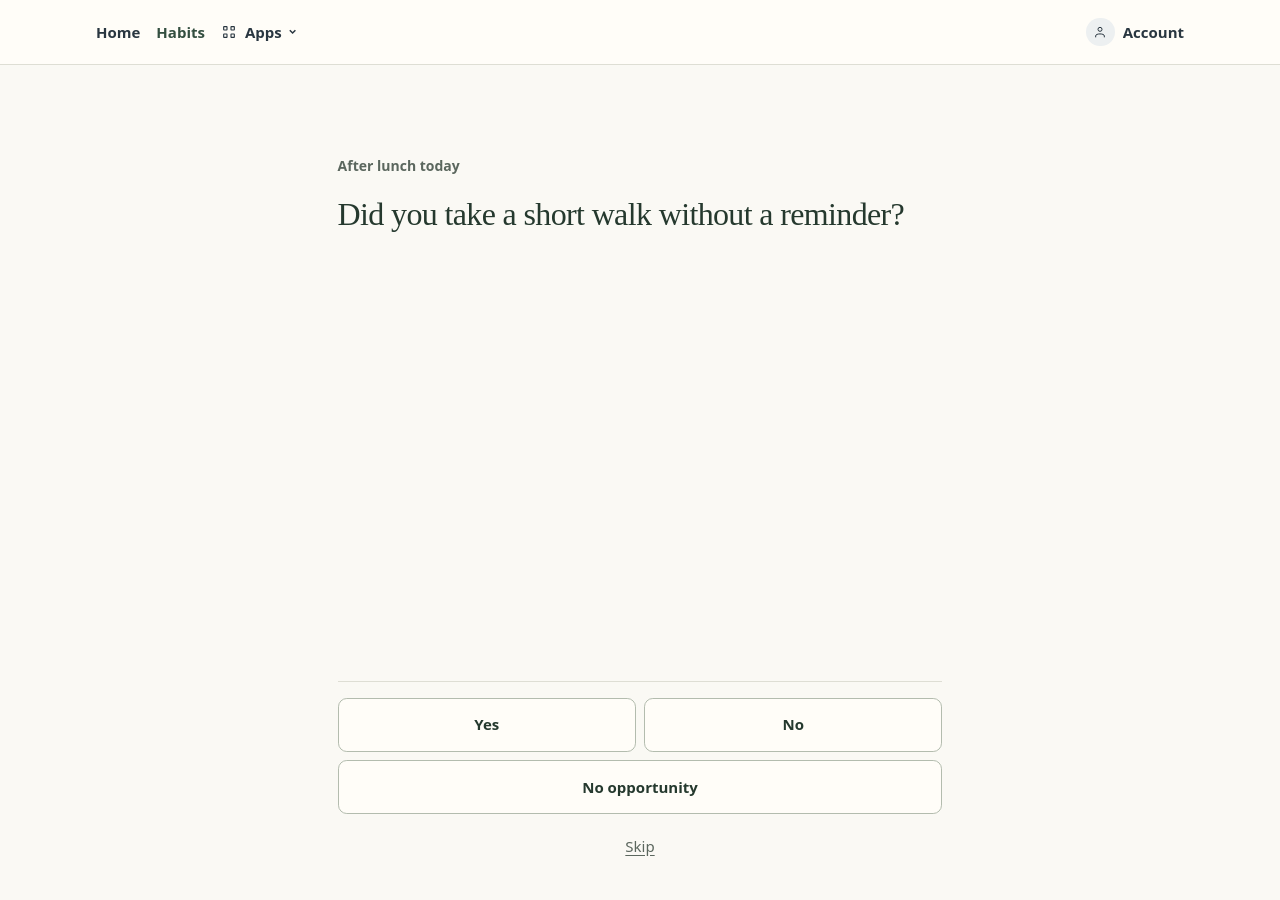
Test: habit no_opportunity is distinct from recall and precedes answer reveal
Expected: the text "Question A" is not shown
What coordinates should you click on to do the following:
click the button "No opportunity"
I would click on:
 (640, 787)
Its box is x1=338 y1=760 x2=942 y2=814.
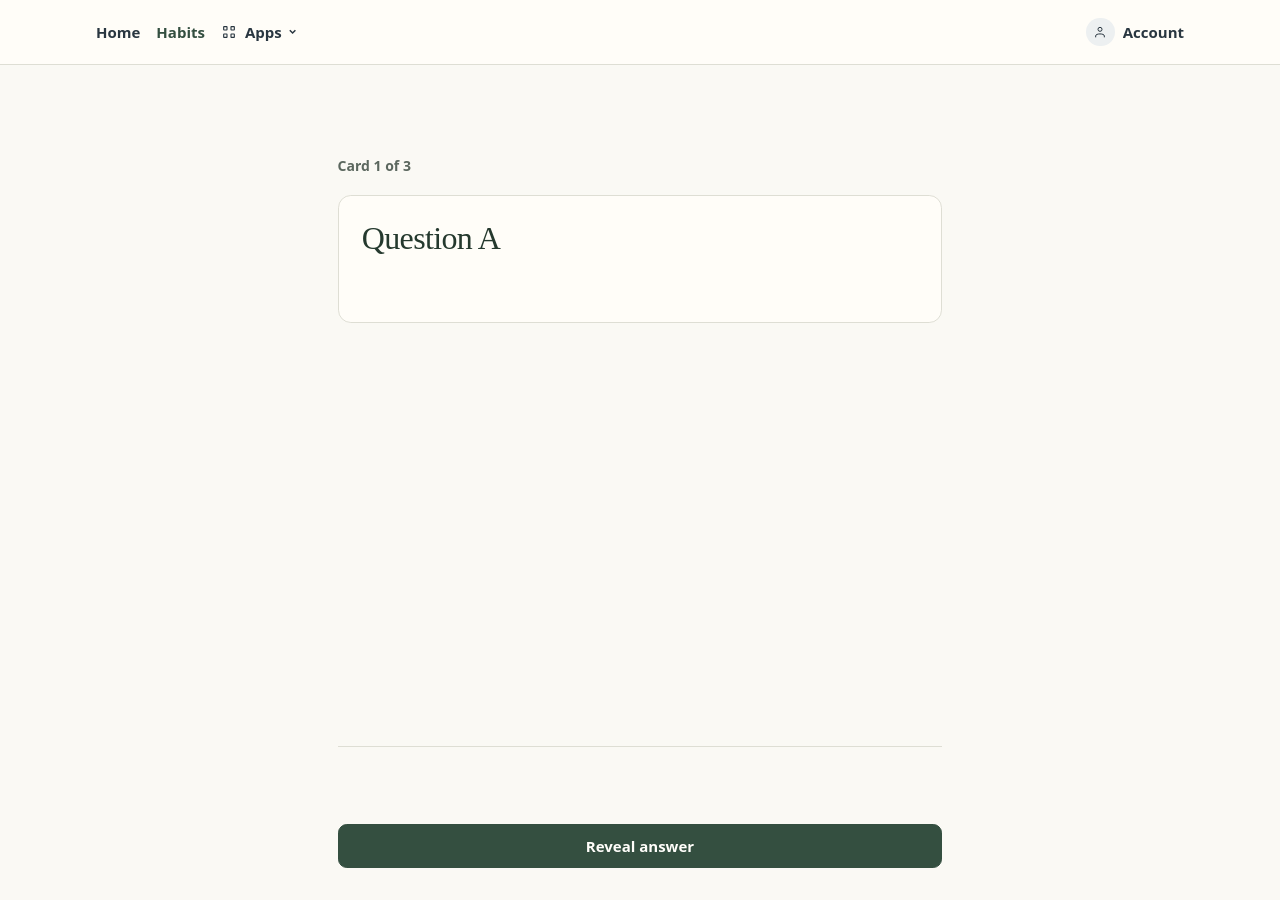
Expected: the text "Question A" is shown, x1=362 y1=220 x2=500 y2=256
